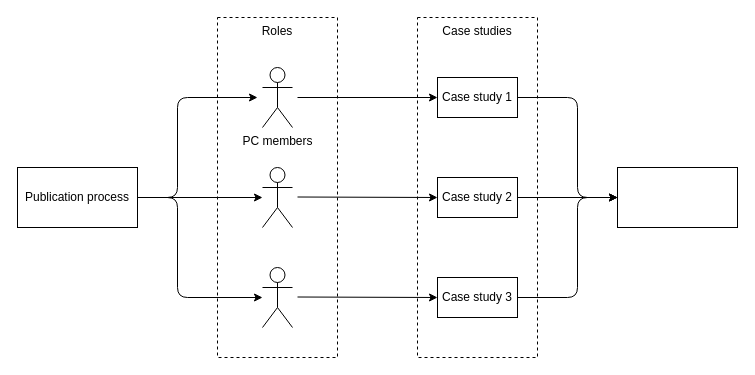
This 755x375 diagram has some shape labels left out. The centre of each missing label's shape, as x and y in pixels:
Authors: point 277,297
Editors: point 277,197
Validation: point 677,197
